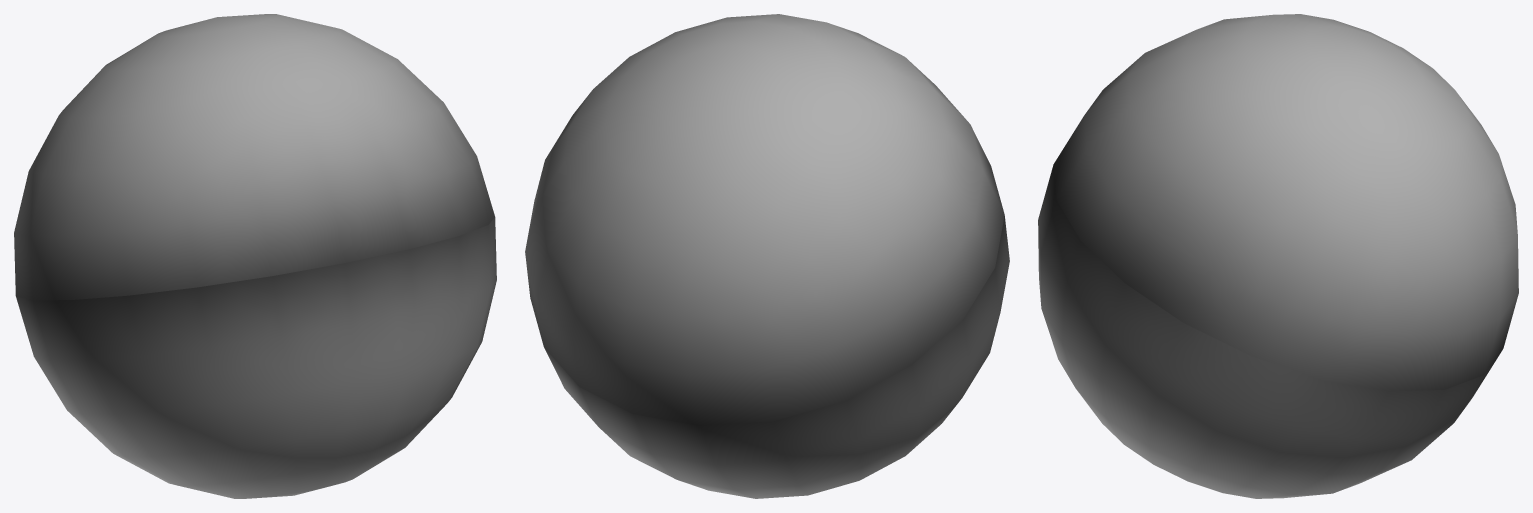
Rendered from trackpad_touch.obj.
The picture shows the model from 3 angles, left to right: view 1: azimuth 30°, elevation 25°; view 2: azimuth 150°, elevation 25°; view 3: azimuth 270°, elevation 25°; orthographic projection.
Parts seen in each view (by area): view 1: r_trackpad_touch; view 2: r_trackpad_touch; view 3: r_trackpad_touch.
Part boxes in pixels (x1,y1,x2,y2): r_trackpad_touch: [14, 14, 496, 498]; r_trackpad_touch: [525, 14, 1009, 498]; r_trackpad_touch: [1038, 14, 1518, 498].
Size of the model in its own units: 0.00429 by 0.00428 by 0.00426.
1 material, 1 textured.
